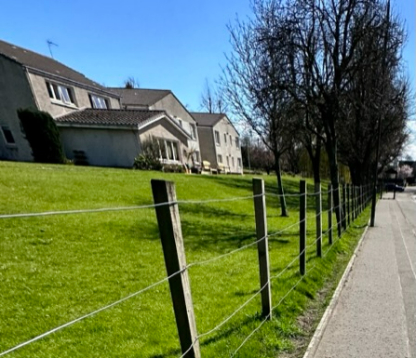tree: (224, 8, 302, 213)
